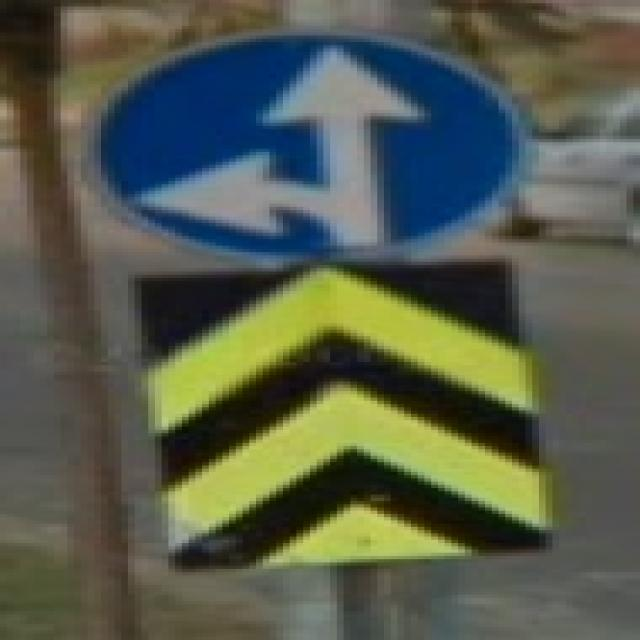Straight or Left: (89, 33, 527, 263)
